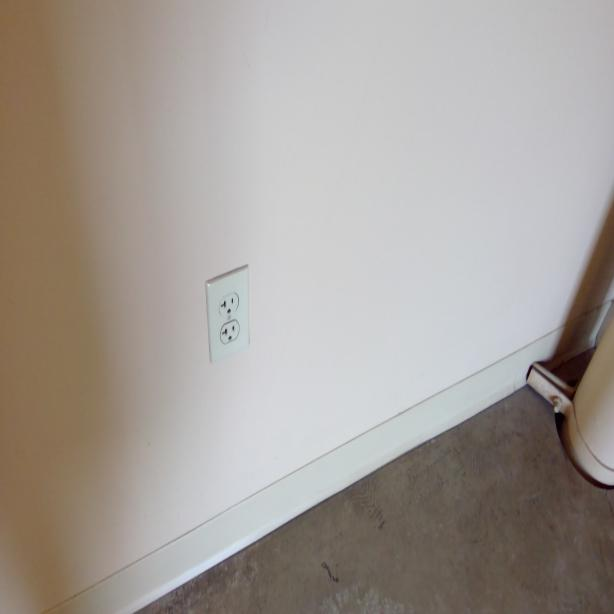typeb: (218, 291, 238, 317), (221, 321, 240, 345)
